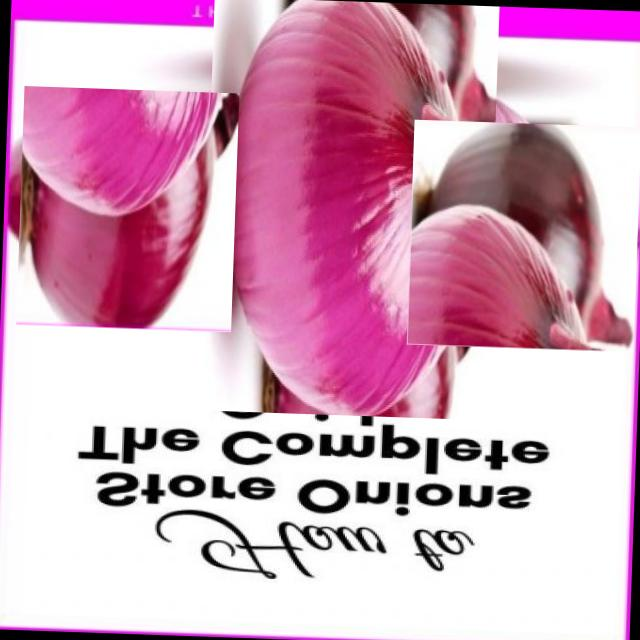Onion: (159, 0, 539, 380), (10, 90, 245, 326), (406, 118, 640, 352)
